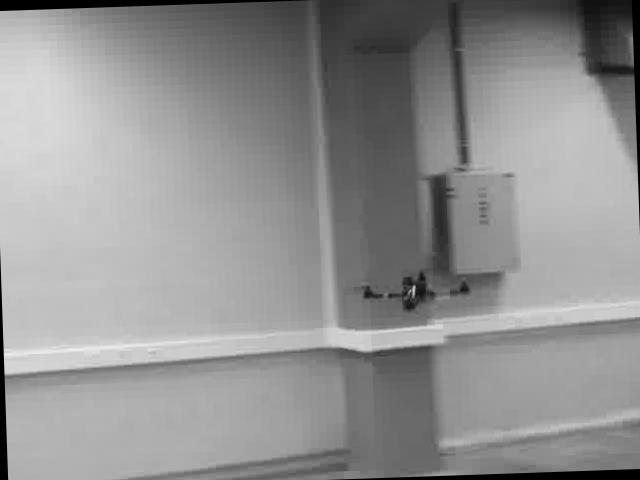drone: (356, 266, 472, 314)
